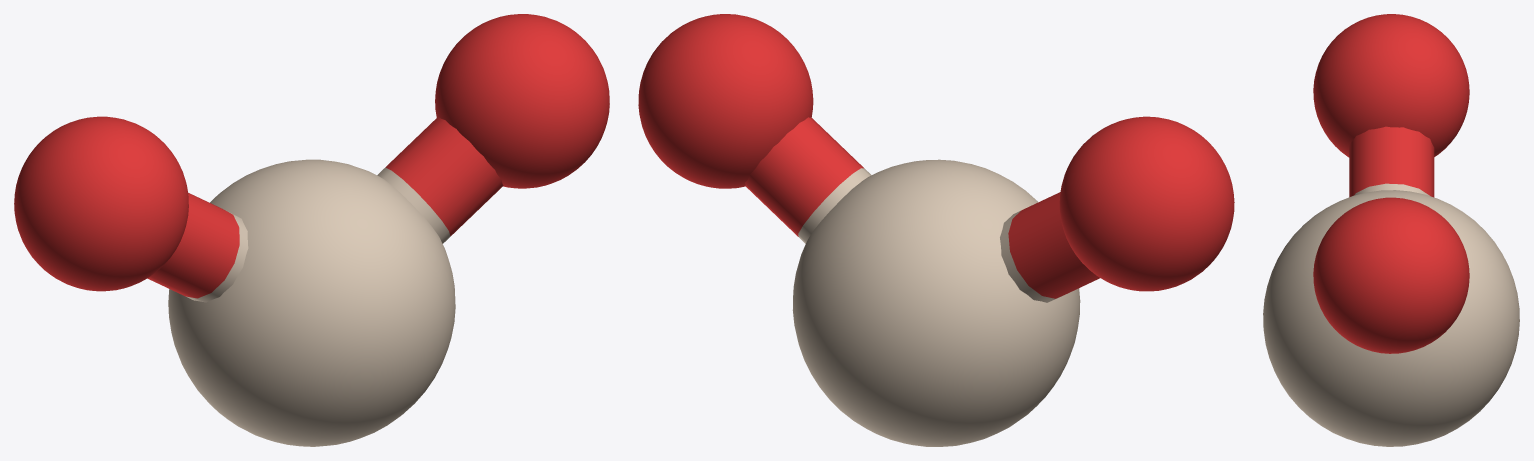
The model's file is 24261-bas-color-print_NIH3D.glb.
3 views of the same model, side by side, from view 1: azimuth 30°, elevation 25°; view 2: azimuth 150°, elevation 25°; view 3: azimuth 270°, elevation 25° (orthographic). The views are drawn at different scales.
Parts seen in each view (by area): view 1: atoms, bonds; view 2: atoms, bonds; view 3: atoms, bonds.
Boxes of the visible parts, x1,y1,x2,y2 form: atoms: (14, 14, 609, 446); bonds: (147, 116, 503, 302); atoms: (638, 14, 1234, 446); bonds: (745, 117, 1099, 302); atoms: (1263, 14, 1519, 446); bonds: (1349, 126, 1434, 197).
Size of the model in its own units: 3.31 by 1.99 by 1.44.
